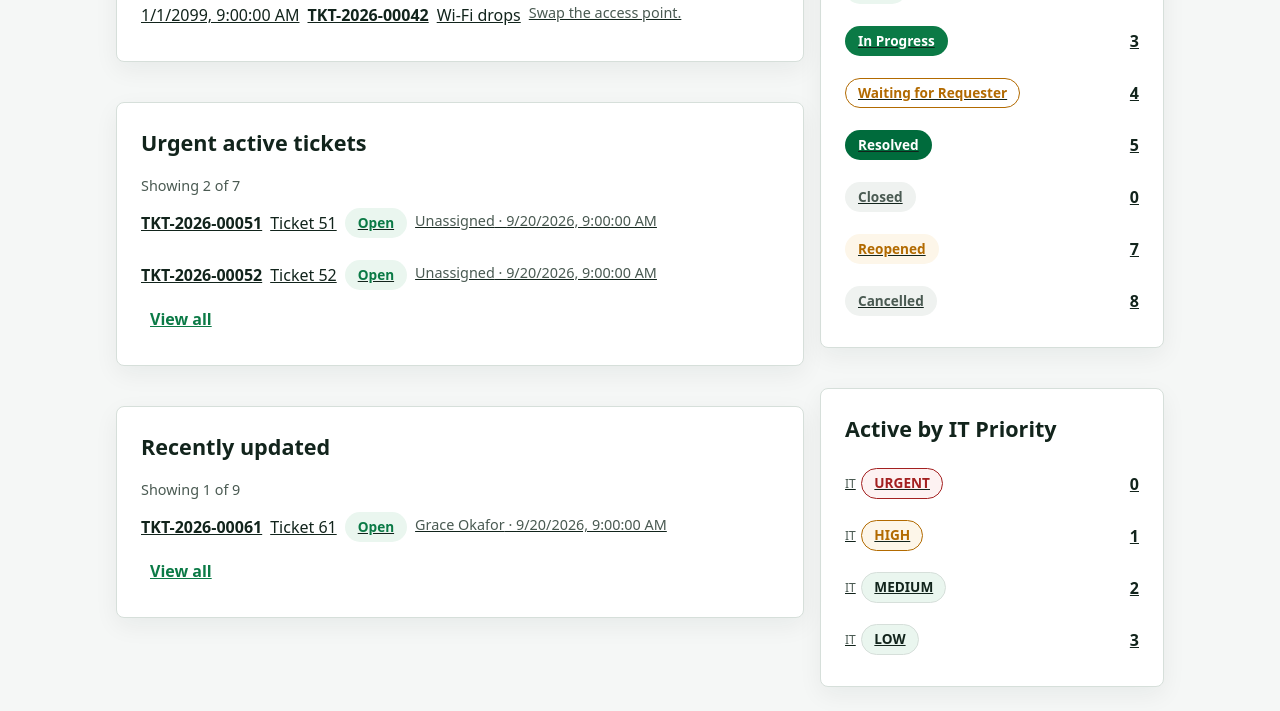
Test case: UI-05 follow-ups from the #101 review › Recently updated's View all opens the queue in the panel's order, last updated first
The image size is (1280, 711).
(page scrolled)
Click the link "View all" below "TKT-2026-00061". click: (181, 571)
box: top-left (150, 560), bottom-right (212, 582)
(page scrolled)
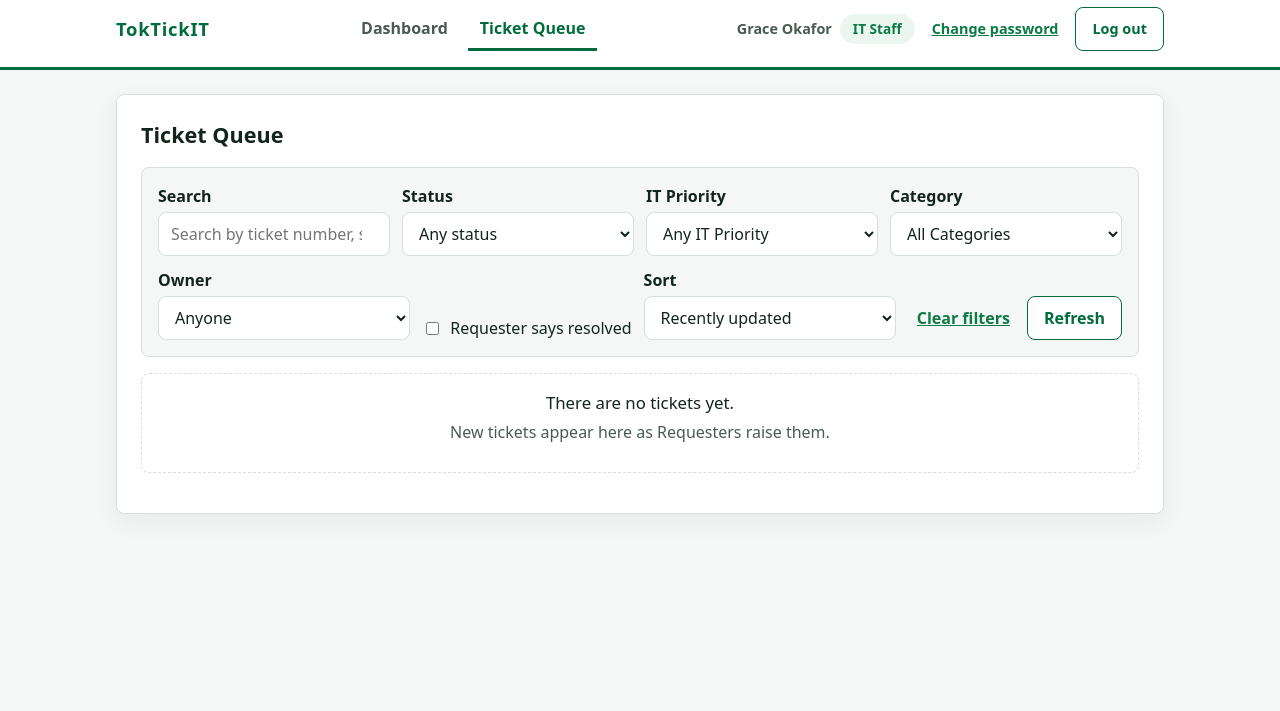
Now the heading "Ticket Queue" is shown, box top-left (141, 120), bottom-right (283, 149)
Now the dropdown labelled "Sort" shows "Recently updated", box top-left (644, 296), bottom-right (896, 340)
